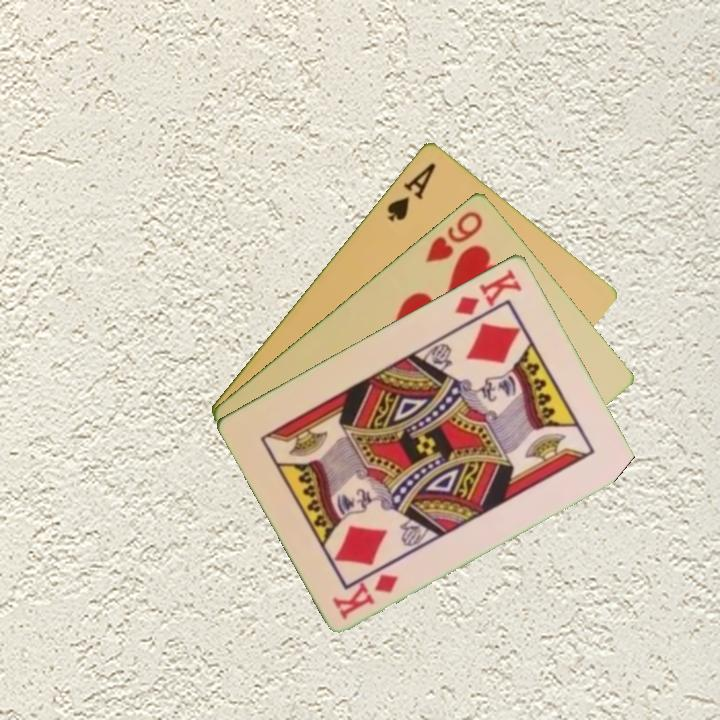9h: (421, 206, 486, 265)
As: (383, 158, 439, 225)
Kd: (451, 264, 525, 318), (329, 569, 402, 622)
